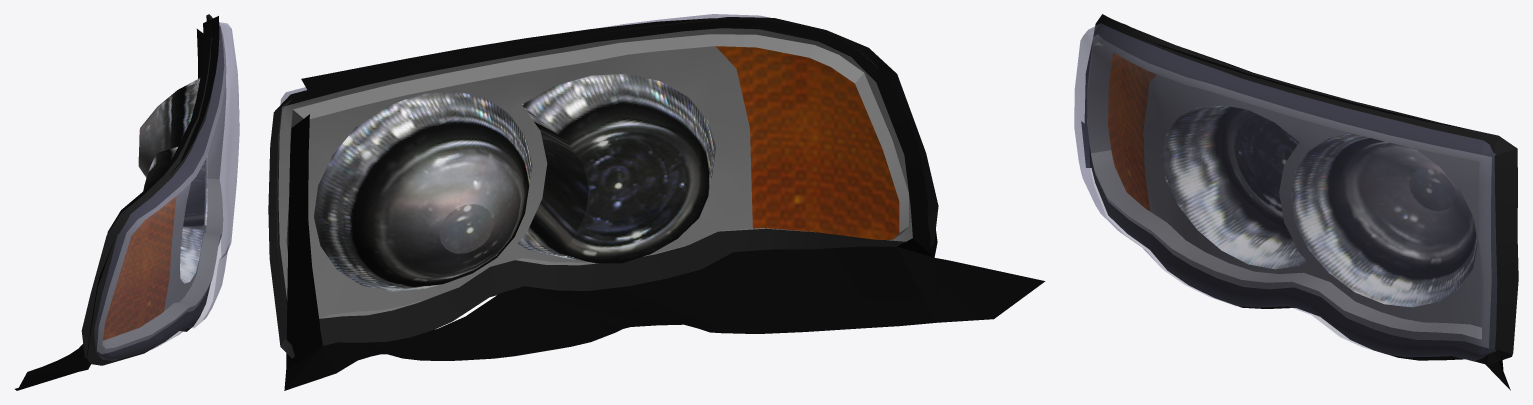
The picture shows the model from 3 angles, left to right: view 1: azimuth 30°, elevation 25°; view 2: azimuth 150°, elevation 25°; view 3: azimuth 270°, elevation 25°; orthographic projection. The views are drawn at different scales.
Visible parts, largest first — view 1: N826_061B_R_N826_061B_R_6_DTaSI, N826_061B_R_N826_061B_R_4_DaS, N826_061B_R_N826_061B_R_5_D, N826_061B_R_1_N_N826_061B_R, N826_061B_R_N826_061B_R_7_D, N826_061B_R_N826_061B_R_3_N, N826_061B_R_N826_061B_R_2_N; view 2: N826_061B_R_N826_061B_R_7_D, N826_061B_R_N826_061B_R_4_DaS, N826_061B_R_N826_061B_R_3_N, N826_061B_R_N826_061B_R_2_N, N826_061B_R_1_N_N826_061B_R, N826_061B_R_N826_061B_R_5_D, N826_061B_R_N826_061B_R_6_DTaSI; view 3: N826_061B_R_N826_061B_R_6_DTaSI, N826_061B_R_N826_061B_R_4_DaS, N826_061B_R_N826_061B_R_3_N, N826_061B_R_N826_061B_R_5_D, N826_061B_R_N826_061B_R_2_N, N826_061B_R_1_N_N826_061B_R, N826_061B_R_N826_061B_R_7_D.
Boxes of the visible parts, bbox=[...] form: N826_061B_R_N826_061B_R_6_DTaSI: bbox=[94, 22, 239, 360]; N826_061B_R_N826_061B_R_4_DaS: bbox=[97, 29, 226, 354]; N826_061B_R_N826_061B_R_5_D: bbox=[81, 14, 224, 365]; N826_061B_R_1_N_N826_061B_R: bbox=[103, 196, 176, 340]; N826_061B_R_N826_061B_R_7_D: bbox=[15, 16, 219, 390]; N826_061B_R_N826_061B_R_3_N: bbox=[138, 78, 207, 225]; N826_061B_R_N826_061B_R_2_N: bbox=[143, 146, 205, 283]; N826_061B_R_N826_061B_R_7_D: bbox=[284, 18, 1045, 390]; N826_061B_R_N826_061B_R_4_DaS: bbox=[278, 28, 912, 318]; N826_061B_R_N826_061B_R_3_N: bbox=[314, 91, 532, 291]; N826_061B_R_N826_061B_R_2_N: bbox=[517, 73, 715, 263]; N826_061B_R_1_N_N826_061B_R: bbox=[715, 46, 899, 239]; N826_061B_R_N826_061B_R_5_D: bbox=[268, 17, 938, 358]; N826_061B_R_N826_061B_R_6_DTaSI: bbox=[277, 14, 875, 238]; N826_061B_R_N826_061B_R_6_DTaSI: bbox=[1074, 23, 1496, 361]; N826_061B_R_N826_061B_R_4_DaS: bbox=[1087, 34, 1491, 348]; N826_061B_R_N826_061B_R_3_N: bbox=[1290, 133, 1477, 307]; N826_061B_R_N826_061B_R_5_D: bbox=[1091, 14, 1518, 364]; N826_061B_R_N826_061B_R_2_N: bbox=[1162, 105, 1306, 269]; N826_061B_R_1_N_N826_061B_R: bbox=[1108, 52, 1156, 210]; N826_061B_R_N826_061B_R_7_D: bbox=[1081, 24, 1510, 390].
Size of the model in its own units: 36.44 by 19.11 by 29.5.
